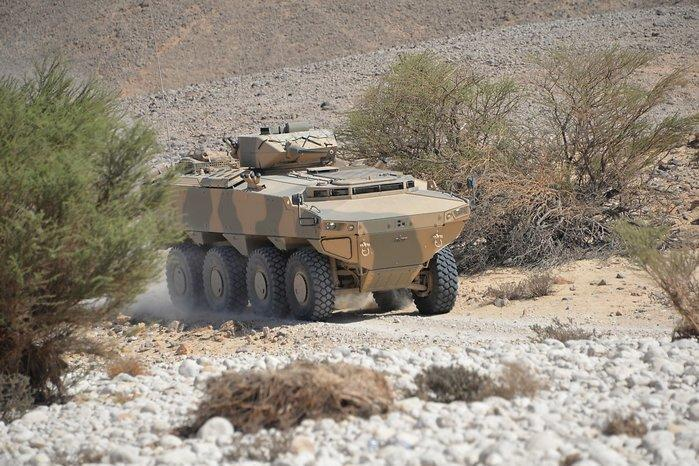MIL_IFV: (157, 118, 475, 318)
